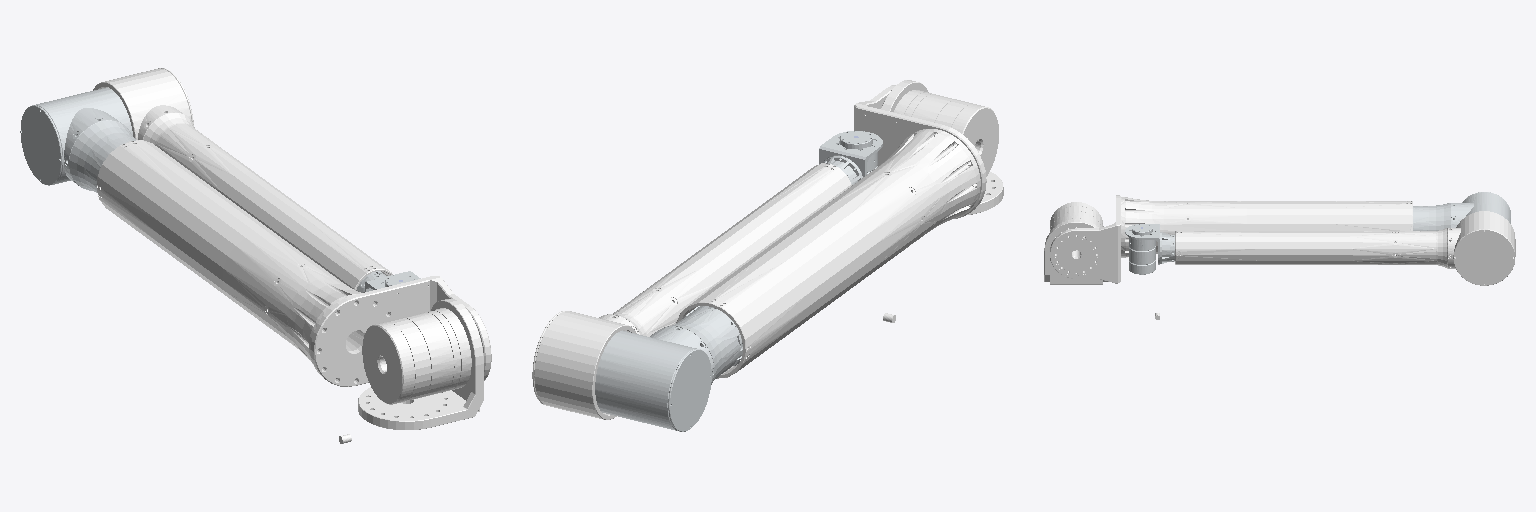
URDF robot description (mobile_arm):
<?xml version="1.0" encoding="utf-8"?>
<!-- This URDF was automatically created by SolidWorks to URDF Exporter! Originally created by Stephen Brawner (brawner@gmail.com) 
     Commit Version: 1.6.0-4-g7f85cfe  Build Version: 1.6.7995.38578
     For more information, please see http://wiki.ros.org/sw_urdf_exporter -->
<robot
  name="mobile_arm">
  <link
    name="base_link">
    <inertial>
      <origin
        xyz="-4.0909E-19 7.734E-20 -3.9118E-32"
        rpy="0 0 0" />
      <mass
        value="0.00049465" />
      <inertia
        ixx="3.8941E-09"
        ixy="2.7016E-25"
        ixz="0"
        iyy="6.0691E-09"
        iyz="-3.6597E-38"
        izz="6.0691E-09" />
    </inertial>
    <visual>
      <origin
        xyz="0 0 0"
        rpy="0 0 0" />
      <geometry>
        <mesh
          filename="package://mobile_arm_description/meshes/base_link.STL" />
      </geometry>
      <material
        name="">
        <color
          rgba="1 1 1 1" />
      </material>
    </visual>
    <collision>
      <origin
        xyz="0 0 0"
        rpy="0 0 0" />
      <geometry>
        <mesh
          filename="package://mobile_arm_description/meshes/base_link.STL" />
      </geometry>
    </collision>
  </link>
  <link
    name="x-link">
    <inertial>
      <origin
        xyz="-0.0044402 0.00027949 0.098792"
        rpy="0 0 0" />
      <mass
        value="14.427" />
      <inertia
        ixx="0.3667"
        ixy="2.0172E-05"
        ixz="0.0050417"
        iyy="0.40039"
        iyz="0.00030024"
        izz="0.0452" />
    </inertial>
    <visual>
      <origin
        xyz="0 0 0"
        rpy="0 0 0" />
      <geometry>
        <mesh
          filename="package://mobile_arm_description/meshes/x-link.STL" />
      </geometry>
      <material
        name="">
        <color
          rgba="1 1 1 1" />
      </material>
    </visual>
    <collision>
      <origin
        xyz="0 0 0"
        rpy="0 0 0" />
      <geometry>
        <mesh
          filename="package://mobile_arm_description/meshes/x-link.STL" />
      </geometry>
    </collision>
  </link>
  <joint
    name="x"
    type="prismatic">
    <origin
      xyz="0 0 0"
      rpy="1.5708 -1.5708 0" />
    <parent
      link="base_link" />
    <child
      link="x-link" />
    <axis
      xyz="0 0 -1" />
    <limit
      lower="0"
      upper="0"
      effort="0"
      velocity="0" />
  </joint>
  <link
    name="y-link">
    <inertial>
      <origin
        xyz="-0.098792 -0.0044402 -0.00027949"
        rpy="0 0 0" />
      <mass
        value="14.427" />
      <inertia
        ixx="0.0452"
        ixy="-0.0050417"
        ixz="0.00030024"
        iyy="0.3667"
        iyz="-2.0172E-05"
        izz="0.40039" />
    </inertial>
    <visual>
      <origin
        xyz="0 0 0"
        rpy="0 0 0" />
      <geometry>
        <mesh
          filename="package://mobile_arm_description/meshes/y-link.STL" />
      </geometry>
      <material
        name="">
        <color
          rgba="1 1 1 1" />
      </material>
    </visual>
    <collision>
      <origin
        xyz="0 0 0"
        rpy="0 0 0" />
      <geometry>
        <mesh
          filename="package://mobile_arm_description/meshes/y-link.STL" />
      </geometry>
    </collision>
  </link>
  <joint
    name="y"
    type="prismatic">
    <origin
      xyz="0 0 0"
      rpy="1.5708 1.5708 0" />
    <parent
      link="x-link" />
    <child
      link="y-link" />
    <axis
      xyz="0 0 -1" />
    <limit
      lower="0"
      upper="0"
      effort="0"
      velocity="0" />
  </joint>
  <link
    name="z-link">
    <inertial>
      <origin
        xyz="-0.098792 0.00027949 -0.0044402"
        rpy="0 0 0" />
      <mass
        value="14.427" />
      <inertia
        ixx="0.0452"
        ixy="-0.00030024"
        ixz="-0.0050417"
        iyy="0.40039"
        iyz="2.0172E-05"
        izz="0.3667" />
    </inertial>
    <visual>
      <origin
        xyz="0 0 0"
        rpy="0 0 0" />
      <geometry>
        <mesh
          filename="package://mobile_arm_description/meshes/z-link.STL" />
      </geometry>
      <material
        name="">
        <color
          rgba="1 1 1 1" />
      </material>
    </visual>
    <collision>
      <origin
        xyz="0 0 0"
        rpy="0 0 0" />
      <geometry>
        <mesh
          filename="package://mobile_arm_description/meshes/z-link.STL" />
      </geometry>
    </collision>
  </link>
  <joint
    name="z"
    type="revolute">
    <origin
      xyz="0 0 0"
      rpy="-1.5708 0 0" />
    <parent
      link="y-link" />
    <child
      link="z-link" />
    <axis
      xyz="0 0 -1" />
    <limit
      lower="0"
      upper="0"
      effort="0"
      velocity="0" />
  </joint>
  <link
    name="sway_link">
    <inertial>
      <origin
        xyz="0.39879 0.0044402 -0.00027949"
        rpy="0 0 0" />
      <mass
        value="14.427" />
      <inertia
        ixx="0.0452"
        ixy="-0.0050417"
        ixz="-0.00030024"
        iyy="0.3667"
        iyz="2.0172E-05"
        izz="0.40039" />
    </inertial>
    <visual>
      <origin
        xyz="0 0 0"
        rpy="0 0 0" />
      <geometry>
        <mesh
          filename="package://mobile_arm_description/meshes/sway_link.STL" />
      </geometry>
      <material
        name="">
        <color
          rgba="1 1 1 1" />
      </material>
    </visual>
    <collision>
      <origin
        xyz="0 0 0"
        rpy="0 0 0" />
      <geometry>
        <mesh
          filename="package://mobile_arm_description/meshes/sway_link.STL" />
      </geometry>
    </collision>
  </link>
  <joint
    name="sway"
    type="revolute">
    <origin
      xyz="0.3 0 0"
      rpy="-1.5708 0 -3.1416" />
    <parent
      link="z-link" />
    <child
      link="sway_link" />
    <axis
      xyz="0 0 -1" />
    <limit
      lower="0"
      upper="0"
      effort="0"
      velocity="0" />
  </joint>
  <link
    name="link1">
    <inertial>
      <origin
        xyz="2.7339E-15 -0.01889 -0.0075161"
        rpy="0 0 0" />
      <mass
        value="0.54048" />
      <inertia
        ixx="0.00065129"
        ixy="-7.7903E-18"
        ixz="2.3198E-11"
        iyy="0.00051279"
        iyz="4.5445E-05"
        izz="0.00066551" />
    </inertial>
    <visual>
      <origin
        xyz="0 0 0"
        rpy="0 0 0" />
      <geometry>
        <mesh
          filename="package://mobile_arm_description/meshes/link1.STL" />
      </geometry>
      <material
        name="">
        <color
          rgba="1 1 1 1" />
      </material>
    </visual>
    <collision>
      <origin
        xyz="0 0 0"
        rpy="0 0 0" />
      <geometry>
        <mesh
          filename="package://mobile_arm_description/meshes/link1.STL" />
      </geometry>
    </collision>
  </link>
  <joint
    name="joint1"
    type="revolute">
    <origin
      xyz="0.42 -0.13466 0"
      rpy="-1.5708 0 -3.1416" />
    <parent
      link="sway_link" />
    <child
      link="link1" />
    <axis
      xyz="0 0 1" />
    <limit
      lower="0"
      upper="0"
      effort="0"
      velocity="0" />
  </joint>
  <link
    name="link2">
    <inertial>
      <origin
        xyz="-1.3901E-06 -0.24232 0.0055822"
        rpy="0 0 0" />
      <mass
        value="1.3852" />
      <inertia
        ixx="0.022598"
        ixy="6.8367E-08"
        ixz="1.3113E-08"
        iyy="0.0020842"
        iyz="-9.0591E-05"
        izz="0.022438" />
    </inertial>
    <visual>
      <origin
        xyz="0 0 0"
        rpy="0 0 0" />
      <geometry>
        <mesh
          filename="package://mobile_arm_description/meshes/link2.STL" />
      </geometry>
      <material
        name="">
        <color
          rgba="1 1 1 1" />
      </material>
    </visual>
    <collision>
      <origin
        xyz="0 0 0"
        rpy="0 0 0" />
      <geometry>
        <mesh
          filename="package://mobile_arm_description/meshes/link2.STL" />
      </geometry>
    </collision>
  </link>
  <joint
    name="joint2"
    type="revolute">
    <origin
      xyz="0 0.023 0"
      rpy="1.5708 -1.5708 0" />
    <parent
      link="link1" />
    <child
      link="link2" />
    <axis
      xyz="0 0 -1" />
    <limit
      lower="0"
      upper="0"
      effort="0"
      velocity="0" />
  </joint>
  <link
    name="link3">
    <inertial>
      <origin
        xyz="-7.476E-08 -0.0015733 -0.16155"
        rpy="0 0 0" />
      <mass
        value="0.73396" />
      <inertia
        ixx="0.0060731"
        ixy="9.6037E-07"
        ixz="-2.0152E-09"
        iyy="0.0060712"
        iyz="2.1958E-06"
        izz="0.00073349" />
    </inertial>
    <visual>
      <origin
        xyz="0 0 0"
        rpy="0 0 0" />
      <geometry>
        <mesh
          filename="package://mobile_arm_description/meshes/link3.STL" />
      </geometry>
      <material
        name="">
        <color
          rgba="0.89804 0.91765 0.92941 1" />
      </material>
    </visual>
    <collision>
      <origin
        xyz="0 0 0"
        rpy="0 0 0" />
      <geometry>
        <mesh
          filename="package://mobile_arm_description/meshes/link3.STL" />
      </geometry>
    </collision>
  </link>
  <joint
    name="joint3"
    type="prismatic">
    <origin
      xyz="0 -0.6043 0"
      rpy="-1.5708 0 3.1416" />
    <parent
      link="link2" />
    <child
      link="link3" />
    <axis
      xyz="0 0 1" />
    <limit
      lower="0"
      upper="0"
      effort="0"
      velocity="0" />
  </joint>
  <link
    name="link4">
    <inertial>
      <origin
        xyz="-1.107E-05 -0.1856 0.00065037"
        rpy="0 0 0" />
      <mass
        value="0.60906" />
      <inertia
        ixx="0.00706"
        ixy="7.2127E-07"
        ixz="3.2551E-09"
        iyy="0.00042093"
        iyz="-4.5398E-07"
        izz="0.0071415" />
    </inertial>
    <visual>
      <origin
        xyz="0 0 0"
        rpy="0 0 0" />
      <geometry>
        <mesh
          filename="package://mobile_arm_description/meshes/link4.STL" />
      </geometry>
      <material
        name="">
        <color
          rgba="1 1 1 1" />
      </material>
    </visual>
    <collision>
      <origin
        xyz="0 0 0"
        rpy="0 0 0" />
      <geometry>
        <mesh
          filename="package://mobile_arm_description/meshes/link4.STL" />
      </geometry>
    </collision>
  </link>
  <joint
    name="joint4"
    type="revolute">
    <origin
      xyz="0 -0.0725 0"
      rpy="1.5708 0 0" />
    <parent
      link="link3" />
    <child
      link="link4" />
    <axis
      xyz="0 0 1" />
    <limit
      lower="0"
      upper="0"
      effort="0"
      velocity="0" />
  </joint>
  <link
    name="link5">
    <inertial>
      <origin
        xyz="1.6164E-09 0.00013947 -0.13461"
        rpy="0 0 0" />
      <mass
        value="0.37018" />
      <inertia
        ixx="0.002369"
        ixy="-2.3222E-07"
        ixz="9.5289E-11"
        iyy="0.0023512"
        iyz="7.3387E-07"
        izz="0.00013067" />
    </inertial>
    <visual>
      <origin
        xyz="0 0 0"
        rpy="0 0 0" />
      <geometry>
        <mesh
          filename="package://mobile_arm_description/meshes/link5.STL" />
      </geometry>
      <material
        name="">
        <color
          rgba="0.89804 0.91765 0.92941 1" />
      </material>
    </visual>
    <collision>
      <origin
        xyz="0 0 0"
        rpy="0 0 0" />
      <geometry>
        <mesh
          filename="package://mobile_arm_description/meshes/link5.STL" />
      </geometry>
    </collision>
  </link>
  <joint
    name="joint5"
    type="prismatic">
    <origin
      xyz="0 -0.5071 0"
      rpy="1.5708 1.5708 0" />
    <parent
      link="link4" />
    <child
      link="link5" />
    <axis
      xyz="0 0 -1" />
    <limit
      lower="0"
      upper="0"
      effort="0"
      velocity="0" />
  </joint>
  <link
    name="link6">
    <inertial>
      <origin
        xyz="-2.1997E-10 5.2042E-17 -0.005"
        rpy="0 0 0" />
      <mass
        value="0.00019635" />
      <inertia
        ixx="1.943E-09"
        ixy="6.4828E-31"
        ixz="-5.8487E-17"
        iyy="1.943E-09"
        iyz="1.4736E-23"
        izz="6.1359E-10" />
    </inertial>
    <visual>
      <origin
        xyz="0 0 0"
        rpy="0 0 0" />
      <geometry>
        <mesh
          filename="package://mobile_arm_description/meshes/link6.STL" />
      </geometry>
      <material
        name="">
        <color
          rgba="0.79216 0.81961 0.93333 1" />
      </material>
    </visual>
    <collision>
      <origin
        xyz="0 0 0"
        rpy="0 0 0" />
      <geometry>
        <mesh
          filename="package://mobile_arm_description/meshes/link6.STL" />
      </geometry>
    </collision>
  </link>
  <joint
    name="joint6"
    type="revolute">
    <origin
      xyz="0 -0.033 0"
      rpy="-1.5708 0 3.1416" />
    <parent
      link="link5" />
    <child
      link="link6" />
    <axis
      xyz="0 0 1" />
    <limit
      lower="0"
      upper="0"
      effort="0"
      velocity="0" />
  </joint>
</robot>

--- What the picture shows (computed from the rendered views, not written in the file) ---
The picture shows the robot from 3 angles, left to right: view 1: azimuth 30°, elevation 25°; view 2: azimuth 150°, elevation 25°; view 3: azimuth 270°, elevation 25°; orthographic projection.
Model mobile_arm with 11 links and 10 joints (6 revolute, 4 prismatic), rooted at base_link, posed all joints at 0.
Links seen in each view (by area): view 1: link2, link4, link1, link3, link5; view 2: link2, link4, link3, link1, link5; view 3: link4, link2, link3, link1, link5.
Link boxes in pixels (<box>): link2: <box>97,140,491,386</box>; link4: <box>93,68,392,289</box>; link1: <box>358,299,483,429</box>; link3: <box>20,87,135,192</box>; link5: <box>356,271,420,292</box>; link2: <box>676,85,986,378</box>; link4: <box>532,163,851,419</box>; link3: <box>595,306,742,431</box>; link1: <box>881,80,1003,214</box>; link5: <box>673,131,882,302</box>; link4: <box>1175,211,1515,285</box>; link2: <box>1050,195,1412,283</box>; link3: <box>1413,192,1510,230</box>; link1: <box>1044,202,1107,284</box>; link5: <box>1125,224,1174,274</box>.
Size in the robot's own frame: 0.154 by 0.6978 by 0.1861 metres.
Meshes: 11 distinct files referenced, 7 mesh visuals loaded (7 binary STL); not drawn: 4 (reference not matched to a file when rendering).
